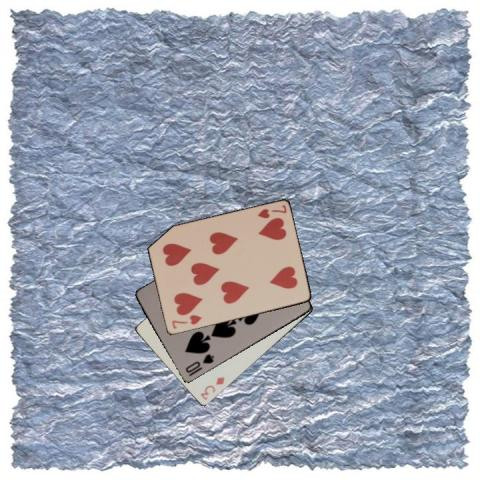10s: (183, 351, 215, 375)
3d: (197, 374, 226, 401)
7h: (168, 312, 202, 331), (254, 202, 288, 220)
